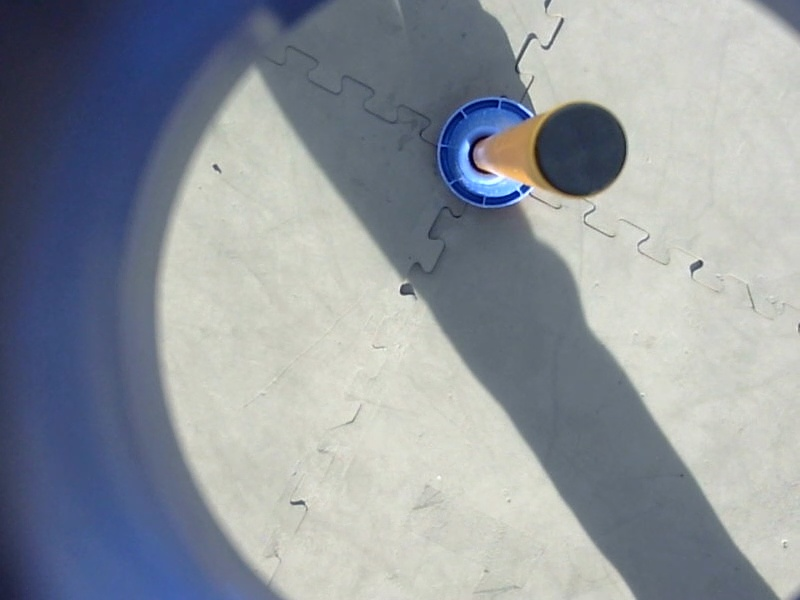tip: (526, 94, 634, 205)
